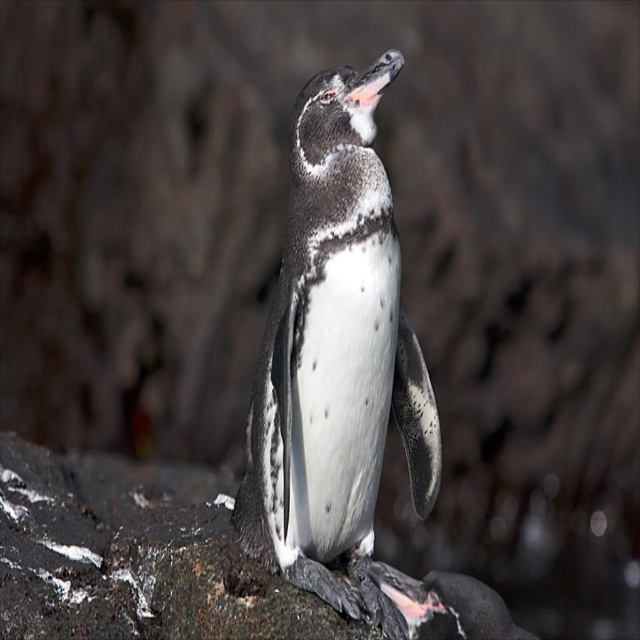Penguin: (231, 48, 442, 640)
